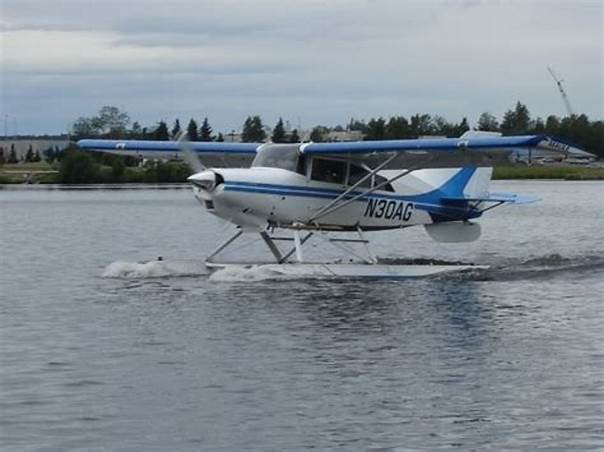Aeronef_commercial: (68, 118, 604, 283)
